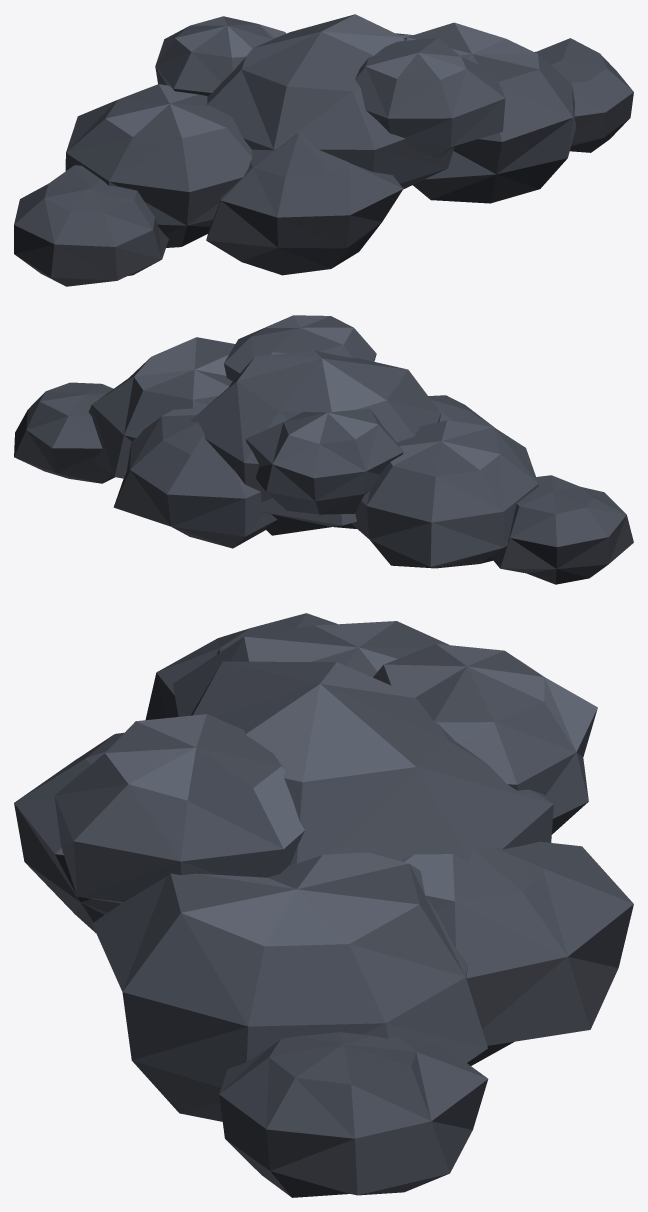
Rendered from SM_StormCloud.fbx.
The picture shows the model from 3 angles, top to bottom: view 1: azimuth 30°, elevation 25°; view 2: azimuth 150°, elevation 25°; view 3: azimuth 270°, elevation 25°; orthographic projection. The views are drawn at different scales.
Parts seen in each view (by area): view 1: SM_StormCloud; view 2: SM_StormCloud; view 3: SM_StormCloud.
Part boxes in pixels (x1,y1,x2,y2): SM_StormCloud: (14,14,633,286); SM_StormCloud: (14,315,633,584); SM_StormCloud: (14,613,633,1197).
Bounding box in the file's own units: 31.38 × 8.13 × 16.03.
